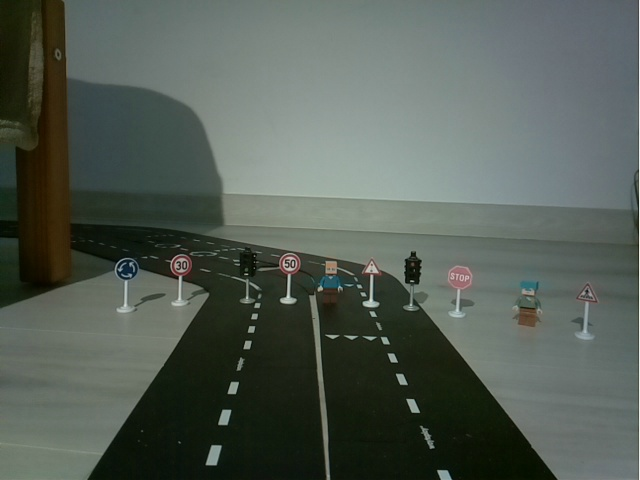green light: (232, 245, 260, 307)
limit 30: (161, 250, 198, 310)
limit 50: (273, 249, 302, 310)
pedestrian sign: (569, 276, 602, 346)
person: (507, 276, 549, 335), (312, 257, 348, 311)
red light: (397, 250, 427, 314)
round: (110, 254, 143, 318)
stop: (443, 262, 476, 323)
traffic light sign: (356, 256, 386, 313)
